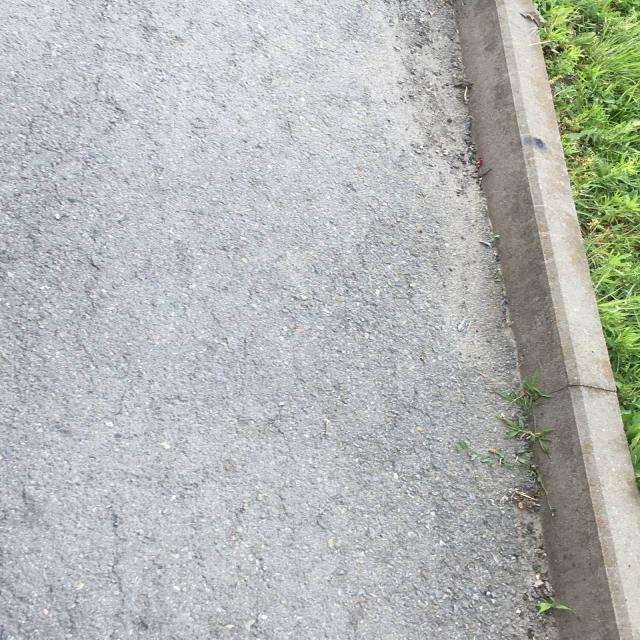bump: (455, 0, 639, 639)
